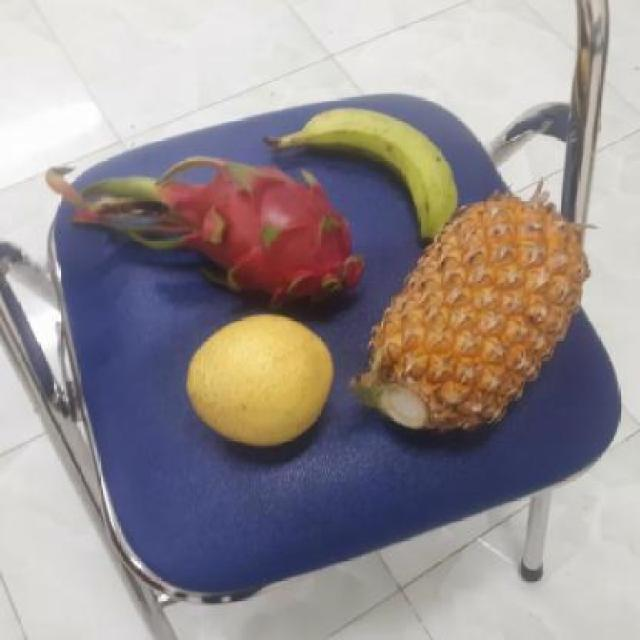banana: (283, 105, 466, 249)
dragon fruit: (163, 160, 368, 315)
guava: (189, 317, 346, 446)
pineapple: (354, 193, 586, 438)
